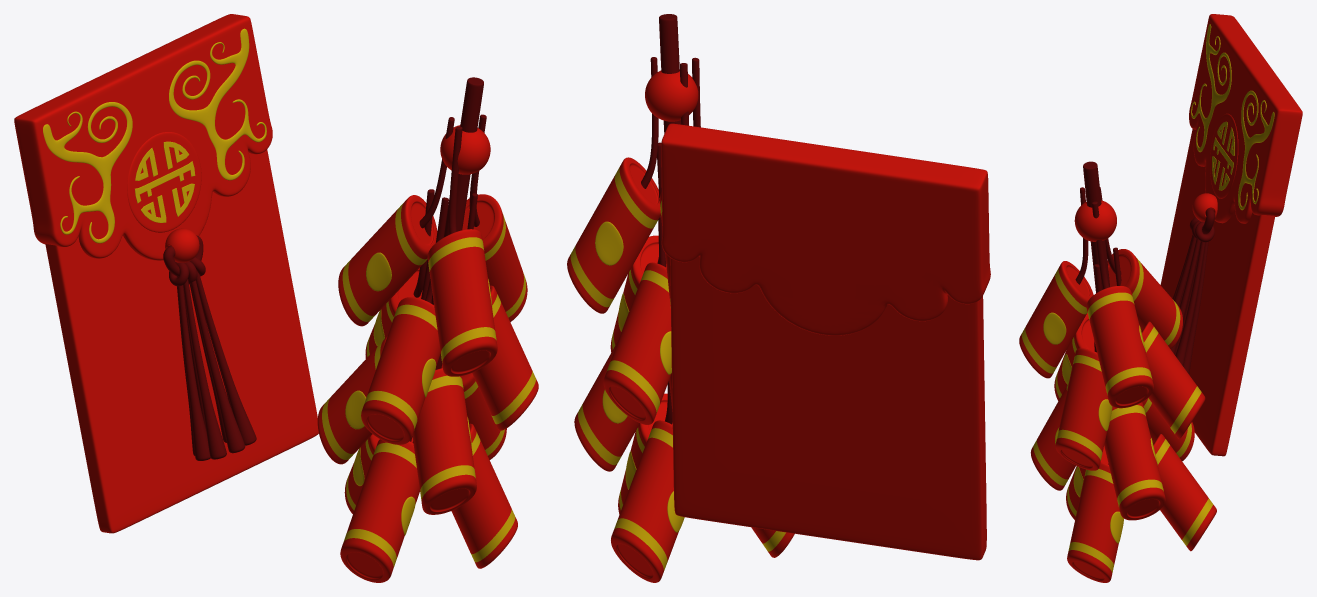
File: lixi_dragon.glb
3 views of the same model, side by side, from view 1: azimuth 30°, elevation 25°; view 2: azimuth 150°, elevation 25°; view 3: azimuth 270°, elevation 25° (orthographic). The views are drawn at different scales.
Visible parts, largest first — view 1: Red Envelope.063, Red Envelope .002, Red Envelope.067, Firecrackers.018, Firecrackers.012, Firecrackers, Firecrackers.004, Red Envelope .003, Firecrackers.022, Firecrackers.014, Firecrackers.002, Red Envelope.064 (+10 smaller); view 2: Red Envelope.063, Red Envelope .002, Firecrackers.020, Firecrackers.016, Firecrackers.005, Firecrackers.008, Firecrackers.025, Firecrackers.014, Firecrackers.002, Firecrackers.024, Firecrackers, Firecrackers.021; view 3: Red Envelope.063, Red Envelope .002, Firecrackers.020, Firecrackers.008, Firecrackers.014, Firecrackers.018, Firecrackers.002, Firecrackers.005, Firecrackers.016, Firecrackers.022, Red Envelope.067, Red Envelope .003 (+10 smaller).
Boxes of the visible parts, bbox=[...] form: Red Envelope.063: bbox=[45, 149, 318, 533]; Red Envelope .002: bbox=[14, 14, 272, 260]; Red Envelope.067: bbox=[169, 257, 256, 460]; Firecrackers.018: bbox=[427, 229, 497, 376]; Firecrackers.012: bbox=[361, 297, 440, 444]; Firecrackers: bbox=[340, 439, 419, 582]; Firecrackers.004: bbox=[412, 368, 476, 514]; Red Envelope .003: bbox=[43, 28, 266, 243]; Firecrackers.022: bbox=[338, 195, 437, 326]; Firecrackers.014: bbox=[472, 285, 538, 430]; Firecrackers.002: bbox=[451, 423, 517, 568]; Red Envelope.064: bbox=[127, 132, 201, 232]; Red Envelope.063: bbox=[670, 256, 986, 560]; Red Envelope .002: bbox=[661, 123, 990, 335]; Firecrackers.020: bbox=[567, 157, 660, 313]; Firecrackers.016: bbox=[603, 262, 671, 424]; Firecrackers.005: bbox=[611, 420, 684, 582]; Firecrackers.008: bbox=[574, 341, 639, 471]; Firecrackers.025: bbox=[645, 70, 698, 121]; Firecrackers.014: bbox=[610, 235, 666, 352]; Firecrackers.002: bbox=[618, 393, 672, 514]; Firecrackers.024: bbox=[659, 14, 681, 133]; Firecrackers: bbox=[751, 527, 794, 557]; Firecrackers.021: bbox=[641, 57, 658, 188]; Red Envelope.063: bbox=[1160, 129, 1275, 456]; Red Envelope .002: bbox=[1189, 14, 1302, 223]; Firecrackers.020: bbox=[1086, 286, 1153, 408]; Firecrackers.008: bbox=[1104, 402, 1165, 520]; Firecrackers.014: bbox=[1055, 348, 1112, 470]; Firecrackers.018: bbox=[1019, 261, 1093, 378]; Firecrackers.002: bbox=[1067, 462, 1123, 582]; Firecrackers.005: bbox=[1153, 434, 1216, 551]; Firecrackers.016: bbox=[1141, 321, 1205, 438]; Firecrackers.022: bbox=[1107, 249, 1182, 348]; Red Envelope.067: bbox=[1171, 217, 1214, 374]; Red Envelope .003: bbox=[1191, 24, 1274, 210].
Bounding box in the file's own units: 6.66 × 7.13 × 4.34.
